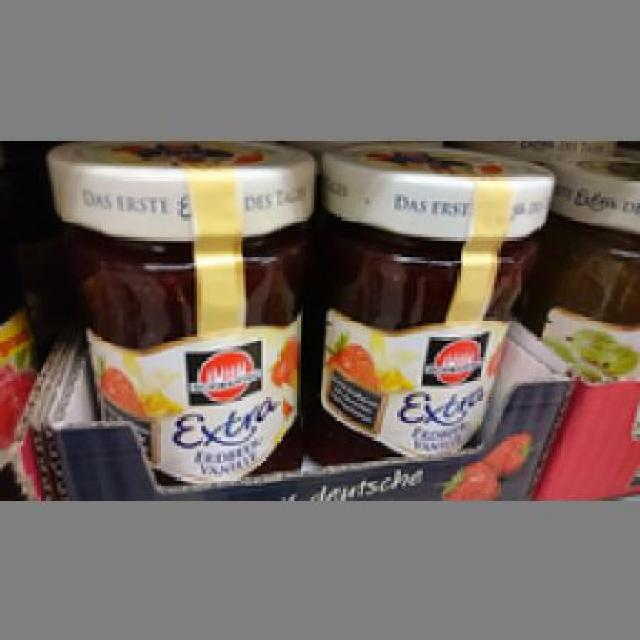Jam: (42, 140, 315, 483), (308, 143, 558, 463)
